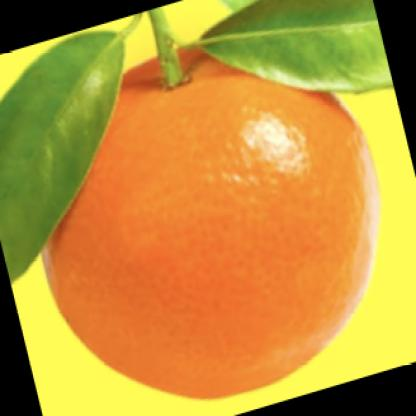fresh: (38, 47, 380, 396)
